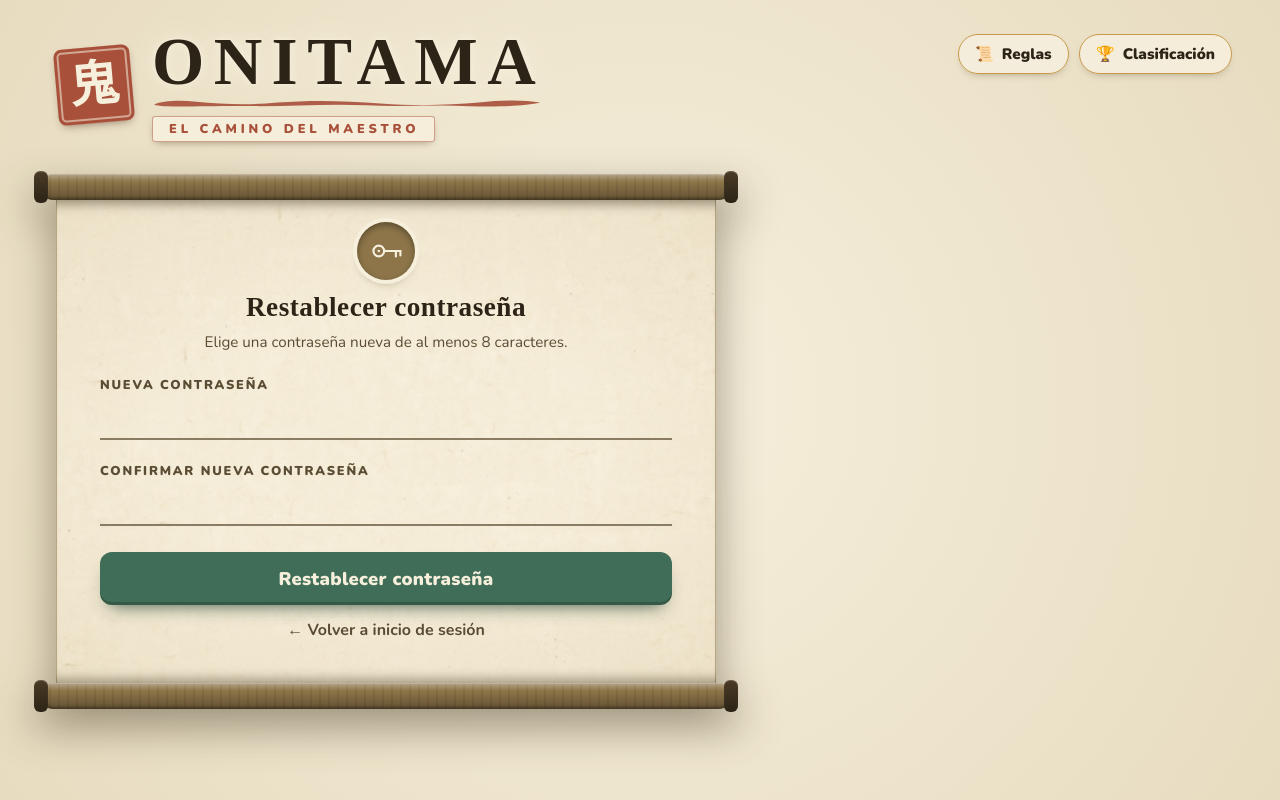
Scenario: ResetPasswordPage › muestra mensaje de error si el token es inválido
The image size is (1280, 800).
Step 1. Type "password1" into the password field labelled "Nueva contraseña" → (386, 418), box [100,396,672,440]
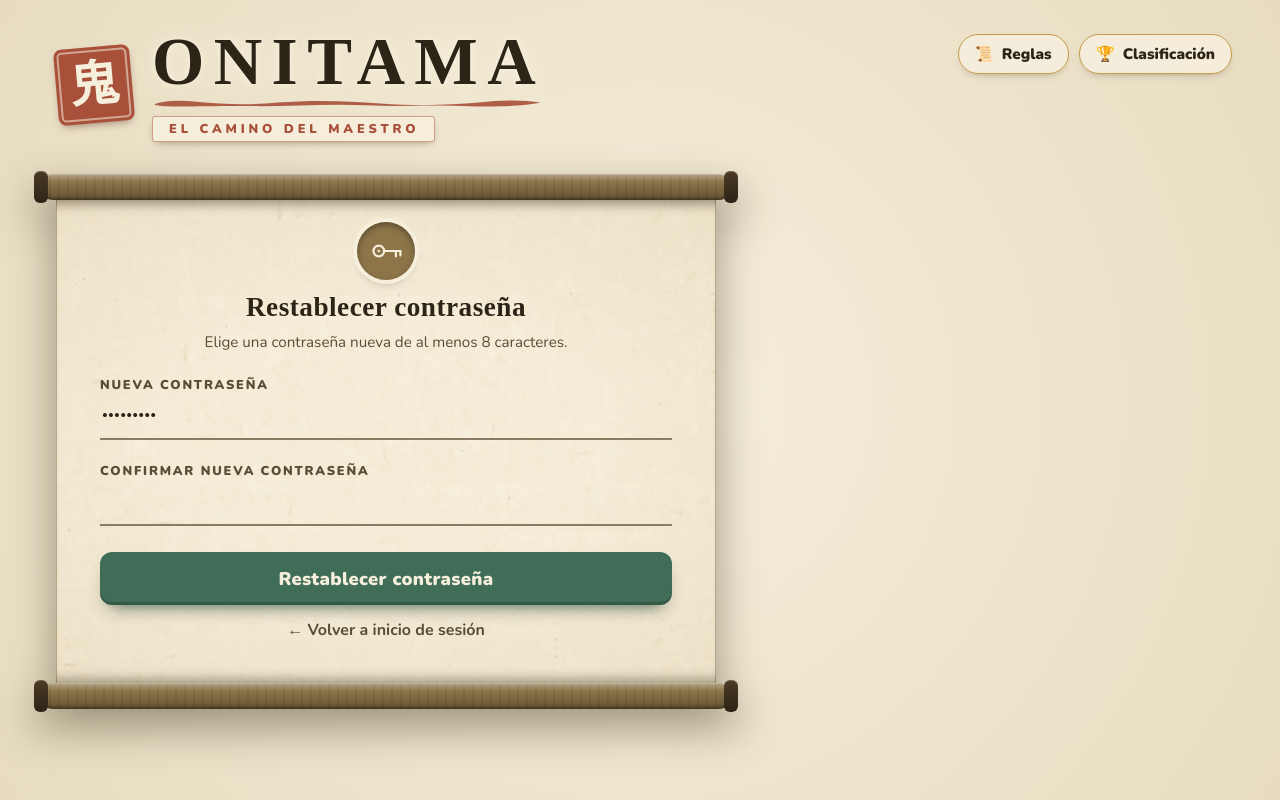
Step 2. Type "password1" into the password field labelled "Confirmar nueva contraseña" → (386, 504), box [100,482,672,526]
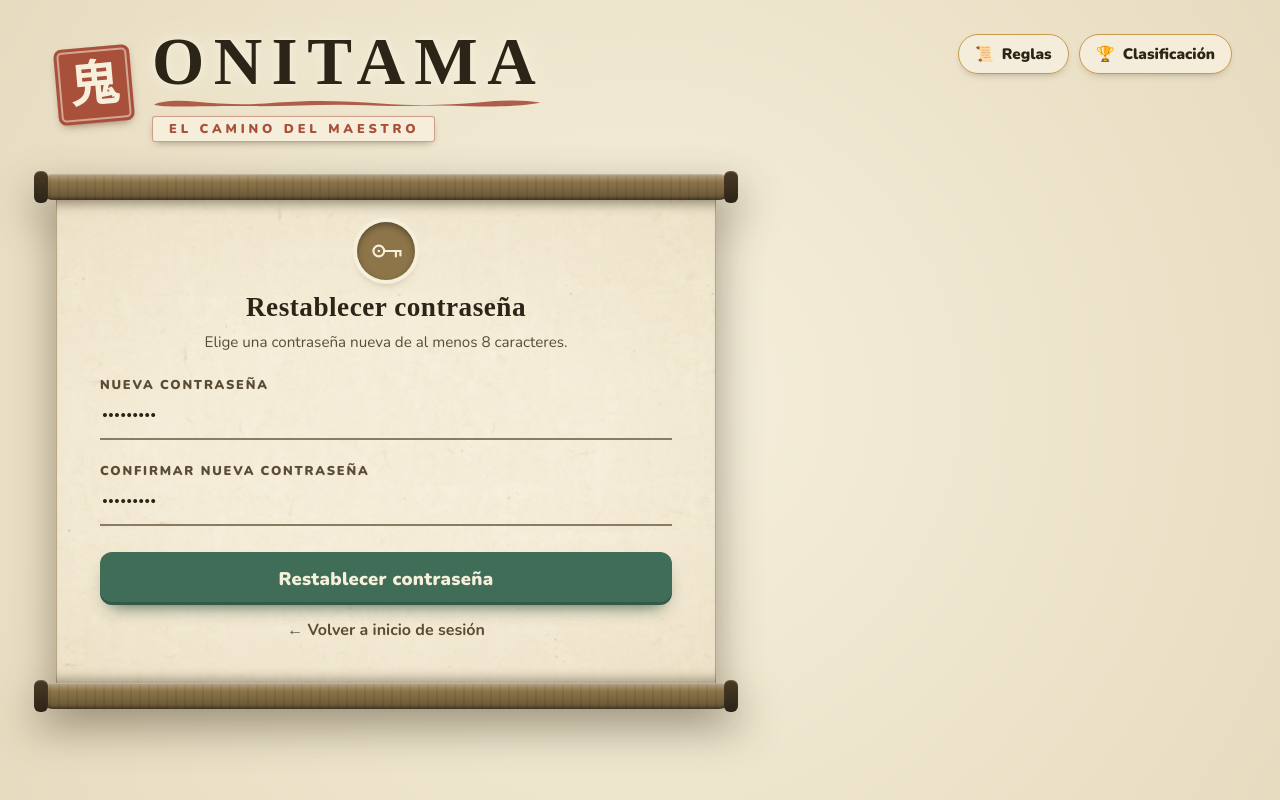
Step 3. Click the button "Restablecer contraseña" → (386, 578), box [100,552,672,605]
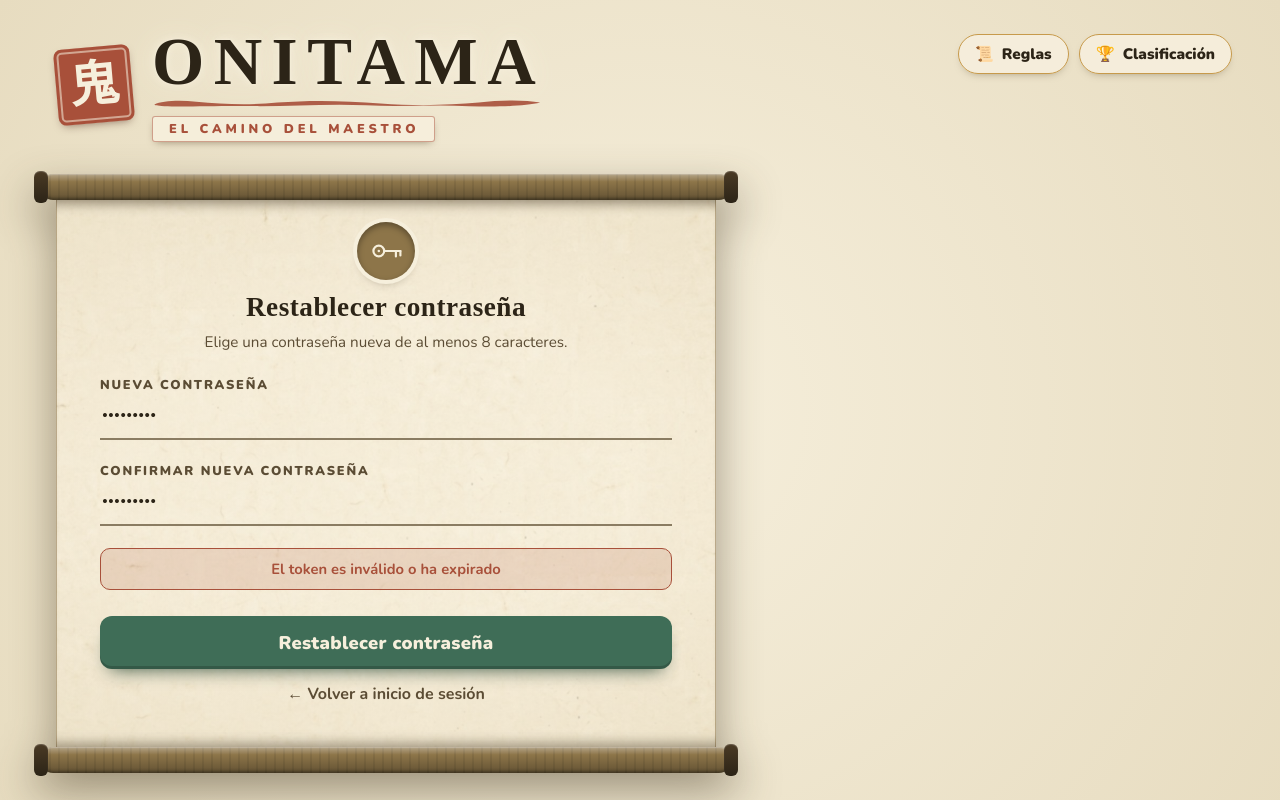
Expected: the text "El token es inválido o ha expirado" is shown, [100,548,672,590]
